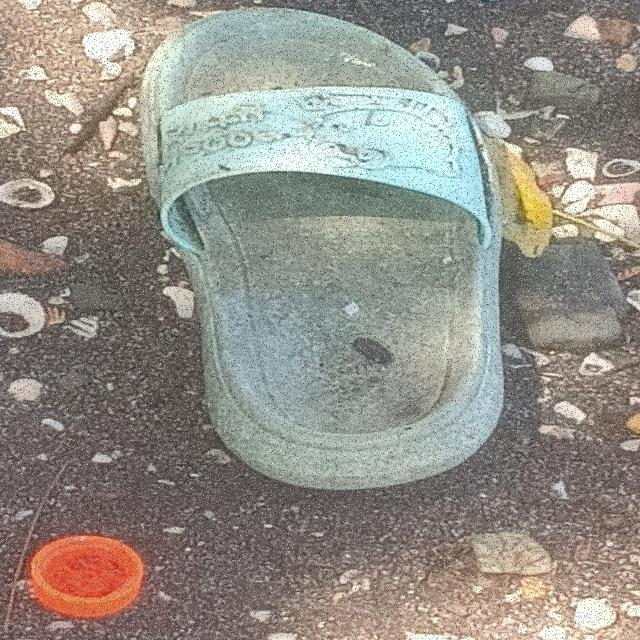plastic_waste: (29, 535, 148, 621)
rubber_waste: (135, 4, 511, 495)
